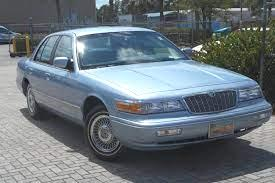Mercury: (205, 88, 221, 100)
